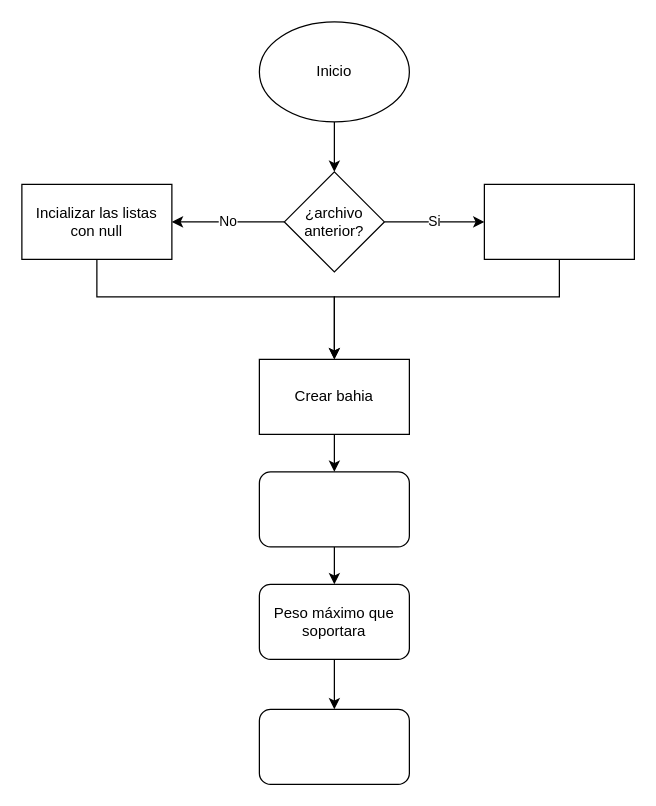
The diagram is 656 pixels wide and 806 high, and some of its shapes have lost their labels. The centre of each missing label's shape, as x and y in pixels:
Leer archivo de texto y agregar información a las listas: the point at 558,221
Posicion en la cual se creara: the point at 333,509
Tipo de producto a almacenar: the point at 333,746
